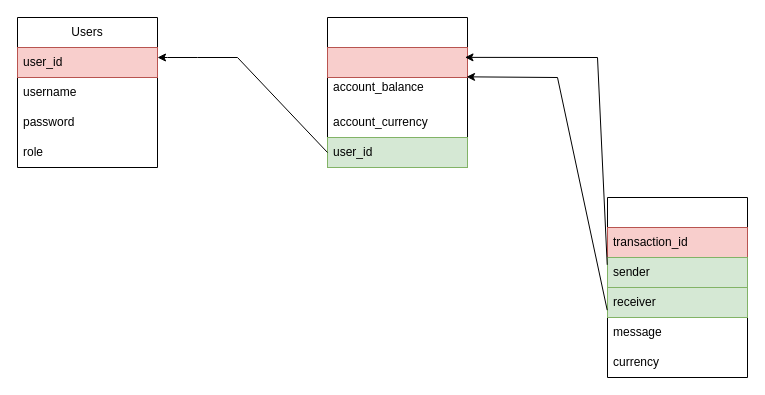
Image size: 765x395. Some labels were removed from this diagram. Each missing label, with the box of its shape:
account_number: (326, 46, 468, 78)
Bank Accounts: (326, 16, 468, 168)
Transactions: (606, 196, 748, 378)
